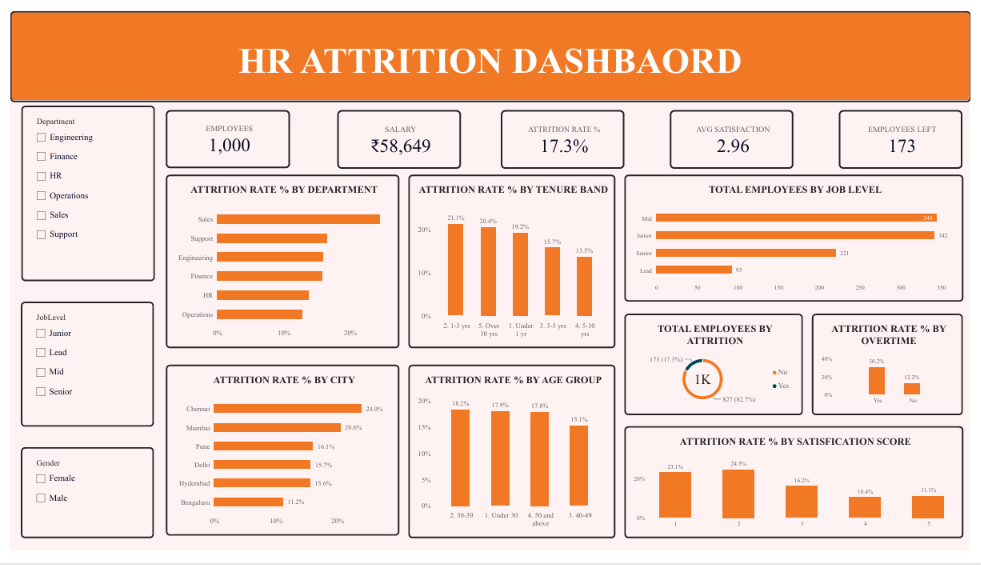

This screenshot's page, from the dashboard's own definition file:
{"tool":"powerbi","page":{"name":"Page 1","canvas":[1920,1080],"ordinal":0},"visuals":[{"type":"shape","box":[0,0,1920.7,181.7],"z":0},{"type":"textbox","box":[0,39.4,1920.4,142.5],"z":1000},{"type":"cardVisual","fields":{"Data":["employees.EMPLOYEES"]},"box":[310.7,181.7,249,132.7],"z":2000},{"type":"cardVisual","fields":{"Data":["employees.SALARY"]},"box":[654.2,181.7,247.5,133.2],"z":3000},{"type":"cardVisual","fields":{"Data":["employees.ATTRITION RATE %"]},"box":[981.3,181.7,247.5,133.2],"z":4000},{"type":"cardVisual","fields":{"Data":["employees.AVG SATISFACTION"]},"box":[1319.3,181.7,247.5,133.2],"z":5000},{"type":"cardVisual","fields":{"Data":["employees.EMPLOYEES LEFT"]},"box":[1657.3,181.7,247.5,133.2],"z":6000},{"type":"clusteredBarChart","title":"ATTRITION RATE % BY DEPARTMENT","fields":{"Category":["employees.Department"],"Y":["employees.ATTRITION RATE %"]},"box":[310.7,327.1,467,347.1],"z":7000},{"type":"clusteredColumnChart","title":"ATTRITION RATE % BY OVERTIME","fields":{"Category":["employees.Overtime"],"Y":["employees.ATTRITION RATE %"]},"box":[1602.7,605.1,301.9,202.5],"z":8000},{"type":"columnChart","title":"ATTRITION RATE % BY SATISFICATION SCORE","fields":{"Category":["employees.SatisfactionScore"],"Y":["employees.ATTRITION RATE %"]},"box":[1228.4,830.4,677.8,223.5],"z":9000},{"type":"columnChart","title":"ATTRITION RATE % BY TENURE BAND","fields":{"Category":["employees.Tenure Band"],"Y":["employees.ATTRITION RATE %"]},"box":[795.9,327.1,414.3,347.1],"z":10000},{"type":"columnChart","title":"ATTRITION RATE % BY AGE GROUP","fields":{"Category":["employees.Age Group"],"Y":["employees.ATTRITION RATE %"]},"box":[795.9,706.9,414.3,347.1],"z":11000},{"type":"clusteredBarChart","title":"ATTRITION RATE % BY CITY","fields":{"Category":["employees.City"],"Y":["employees.ATTRITION RATE %"]},"box":[310.7,706.9,467,341.6],"z":12000},{"type":"barChart","title":"TOTAL EMPLOYEES BY JOB LEVEL","fields":{"Category":["employees.JobLevel"],"Y":["employees.TOTAL EMPLOYEES"]},"box":[1228.4,327.1,677.8,254.4],"z":13000},{"type":"donutChart","title":"TOTAL EMPLOYEES BY ATTRITION ","fields":{"Category":["employees.Attrition"],"Y":["employees.TOTAL EMPLOYEES"]},"box":[1228.4,605.1,356.3,202.5],"z":14000},{"type":"slicer","fields":{"Values":["employees.Department"]},"box":[21.8,189,267.1,350.7],"z":15000},{"type":"slicer","fields":{"Values":["employees.JobLevel"]},"box":[20.6,581.4,266.3,249.4],"z":16000},{"type":"slicer","fields":{"Values":["employees.Gender"]},"box":[20.6,872,266.3,181.9],"z":17000}]}

Visuals, with their boxes in screenshot pixels (x1, y1, x2, y2), scaled from the page's 1920x1080 canvas onto the 981x565 screenshot:
shape: <bbox>0, 0, 980, 95</bbox>
textbox: <bbox>0, 21, 980, 95</bbox>
cardVisual - employees.EMPLOYEES: <bbox>159, 95, 286, 164</bbox>
cardVisual - employees.SALARY: <bbox>334, 95, 461, 165</bbox>
cardVisual - employees.ATTRITION RATE %: <bbox>501, 95, 628, 165</bbox>
cardVisual - employees.AVG SATISFACTION: <bbox>674, 95, 801, 165</bbox>
cardVisual - employees.EMPLOYEES LEFT: <bbox>847, 95, 973, 165</bbox>
"ATTRITION RATE % BY DEPARTMENT" clusteredBarChart: <bbox>159, 171, 397, 353</bbox>
"ATTRITION RATE % BY OVERTIME" clusteredColumnChart: <bbox>819, 317, 973, 422</bbox>
"ATTRITION RATE % BY SATISFICATION SCORE" columnChart: <bbox>628, 434, 974, 551</bbox>
"ATTRITION RATE % BY TENURE BAND" columnChart: <bbox>407, 171, 618, 353</bbox>
"ATTRITION RATE % BY AGE GROUP" columnChart: <bbox>407, 370, 618, 551</bbox>
"ATTRITION RATE % BY CITY" clusteredBarChart: <bbox>159, 370, 397, 549</bbox>
"TOTAL EMPLOYEES BY JOB LEVEL" barChart: <bbox>628, 171, 974, 304</bbox>
"TOTAL EMPLOYEES BY ATTRITION " donutChart: <bbox>628, 317, 810, 422</bbox>
slicer - employees.Department: <bbox>11, 99, 148, 282</bbox>
slicer - employees.JobLevel: <bbox>11, 304, 147, 435</bbox>
slicer - employees.Gender: <bbox>11, 456, 147, 551</bbox>
